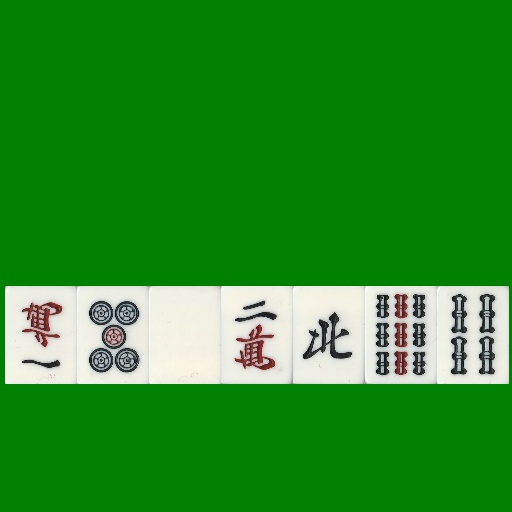1m: (5, 286, 77, 384)
2m: (221, 286, 293, 384)
4s: (437, 286, 509, 384)
5p: (77, 286, 149, 384)
9s: (365, 286, 437, 384)
north: (293, 286, 365, 384)
white: (149, 286, 221, 384)
